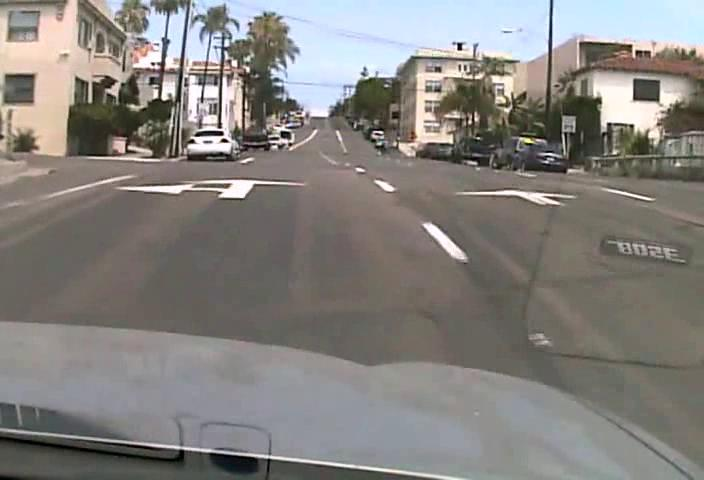speedLimitUrdbl: (560, 114, 576, 133)
